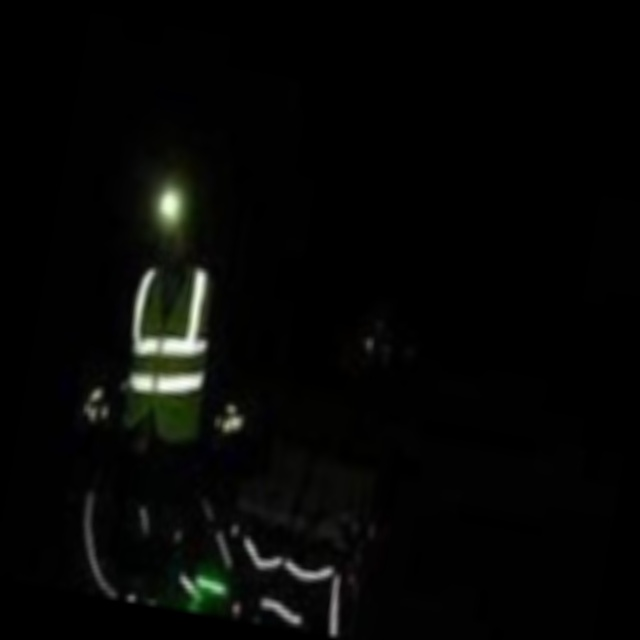Con_Chaleco: (112, 247, 220, 443)
